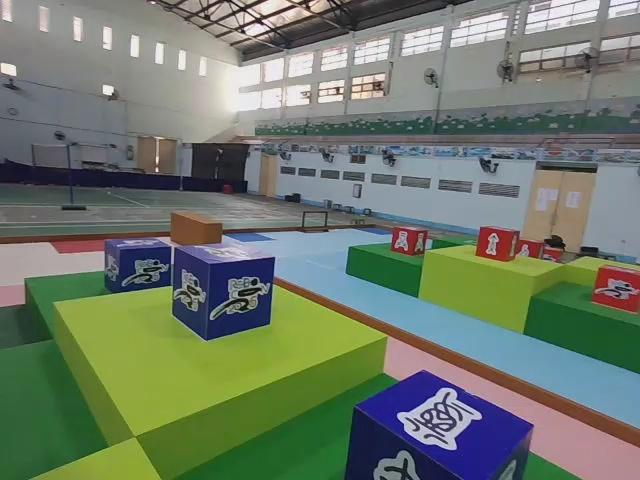R1 Blue: (170, 244, 276, 340), (104, 239, 173, 296)
R2 Fake Blue: (349, 371, 531, 480)
